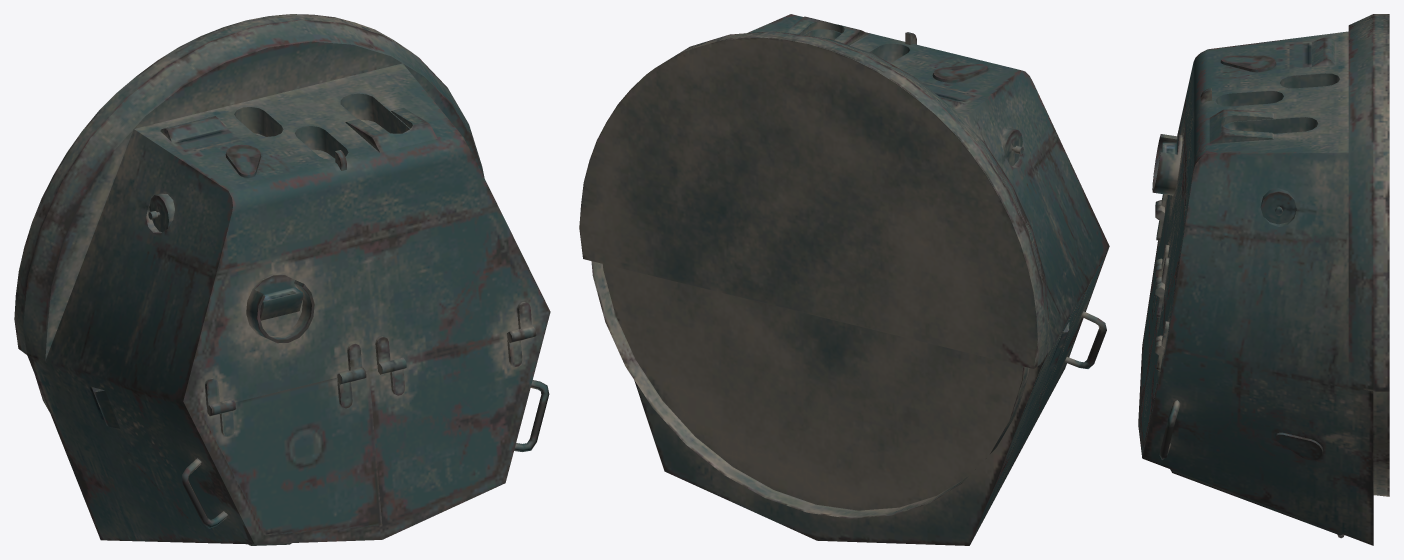
Rendered from Turret_01.glb.
The picture shows the model from 3 angles, left to right: view 1: azimuth 30°, elevation 25°; view 2: azimuth 150°, elevation 25°; view 3: azimuth 270°, elevation 25°; orthographic projection. The views are drawn at different scales.
Visible parts, largest first — view 1: set_0_group_0; view 2: set_0_group_0; view 3: set_0_group_0.
Part boxes in pixels (left/top/right/bottom): set_0_group_0: left=14, top=14, right=550, bottom=545; set_0_group_0: left=579, top=14, right=1109, bottom=545; set_0_group_0: left=1138, top=14, right=1389, bottom=545.
Bounding box in the file's own units: 1.21 × 1.27 × 0.6168.
1 material, 1 textured.
